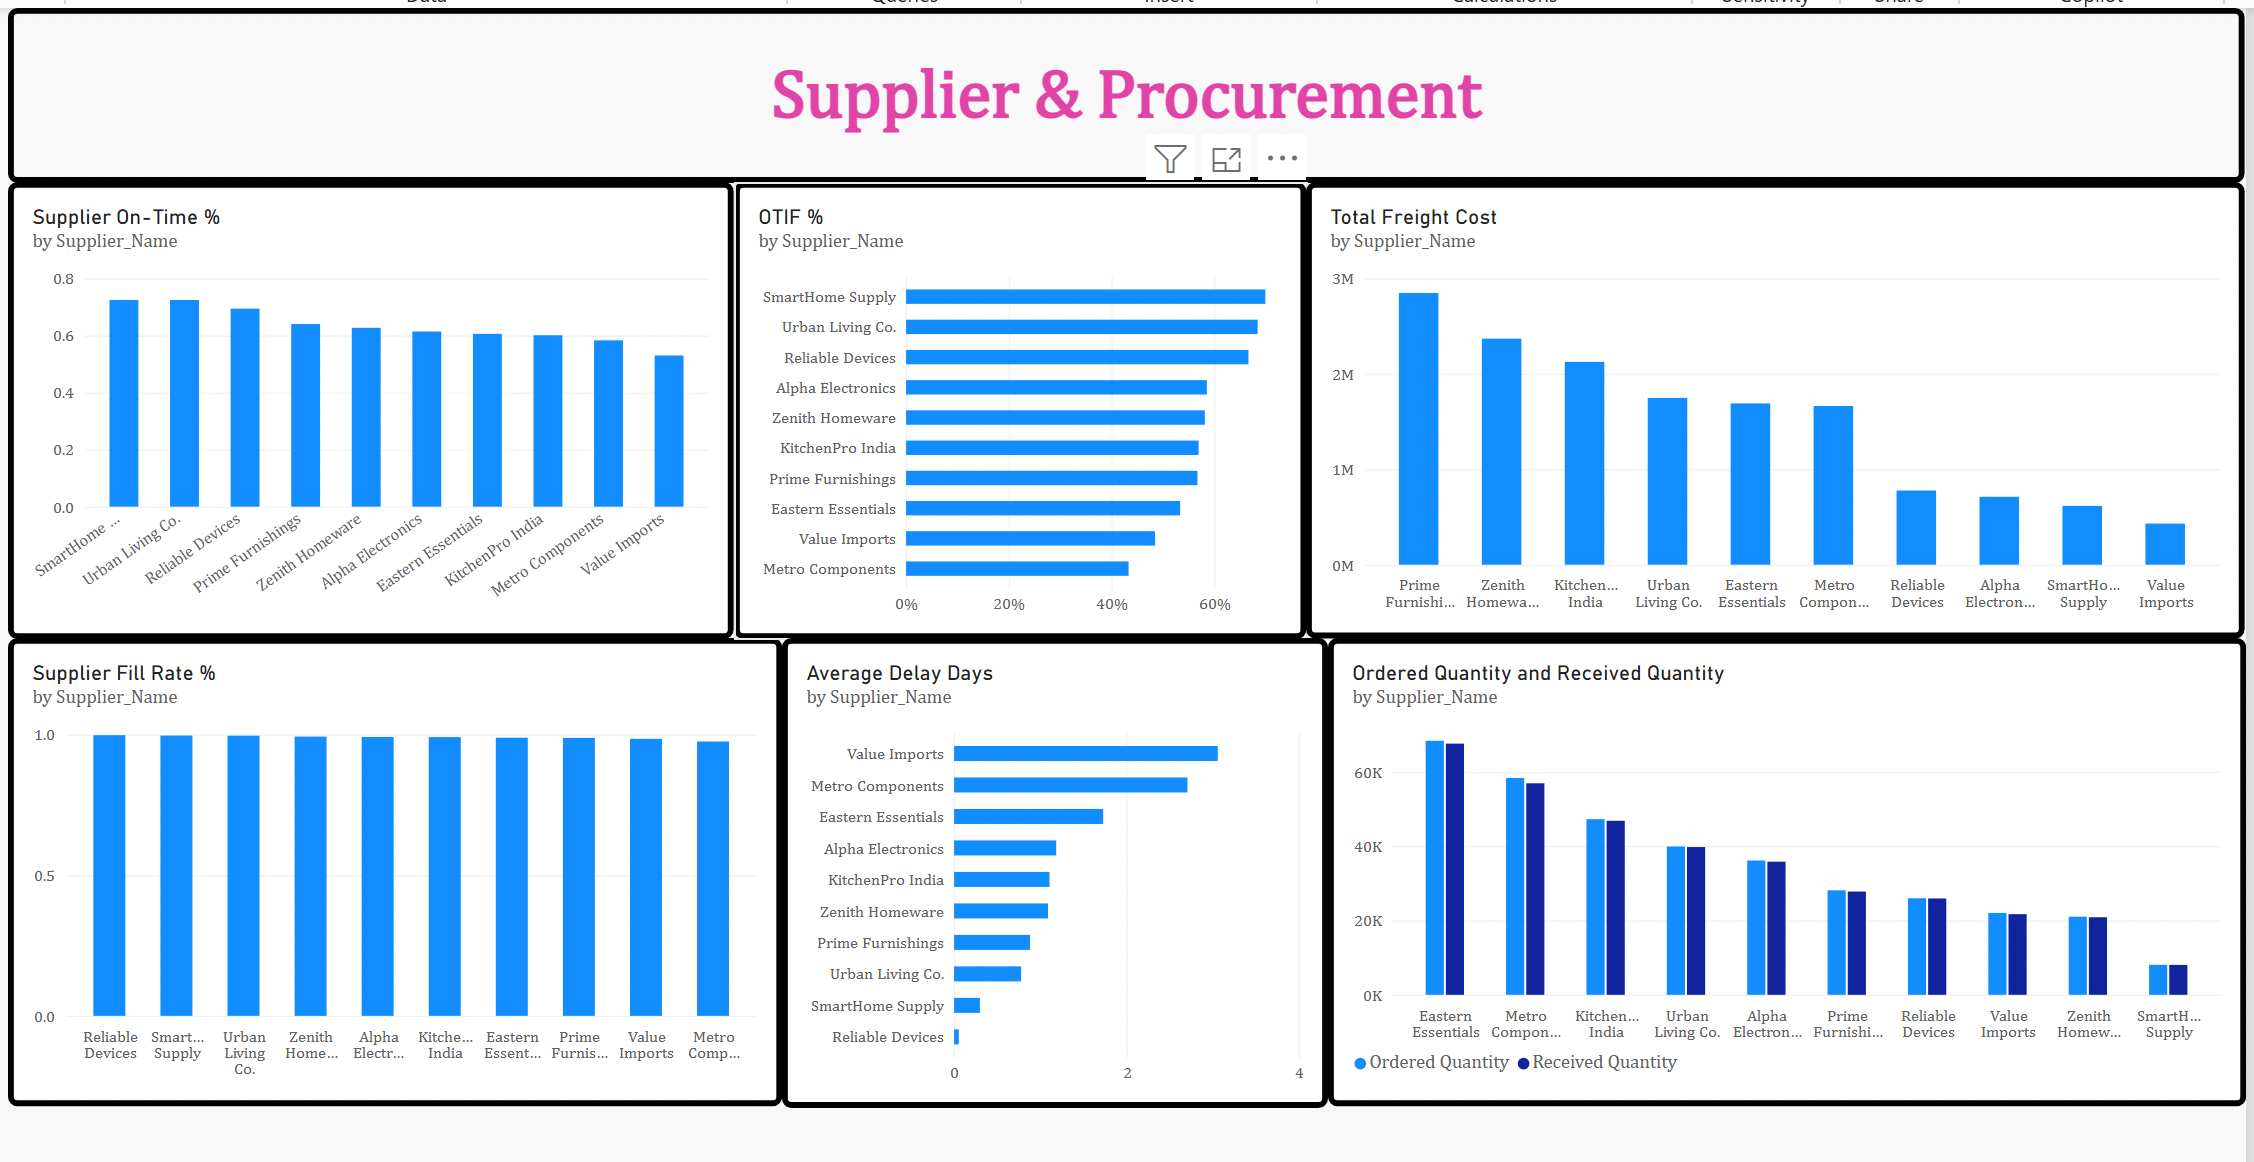

What the dashboard file says about the page in this screenshot:
{"tool":"powerbi","page":{"name":"Supplier & Procurement","canvas":[1920,1080],"ordinal":2},"visuals":[{"type":"clusteredColumnChart","fields":{"Category":["Supplier_Master.Supplier_Name"],"Y":["Supplier_Master.Supplier On-Time %"]},"box":[9.2,149.3,620.1,390.4],"z":0},{"type":"textbox","box":[9.2,0,1910.8,149.3],"z":1},{"type":"columnChart","fields":{"Category":["Supplier_Master.Supplier_Name"],"Y":["Supplier_Master.Supplier Fill Rate %"]},"box":[8.5,538.3,661.3,399.9],"z":2},{"type":"clusteredBarChart","fields":{"Category":["Supplier_Master.Supplier_Name"],"Y":["Purchase_Order.OTIF %"]},"box":[629.3,149.3,489.2,390.4],"z":3},{"type":"clusteredBarChart","fields":{"Category":["Supplier_Master.Supplier_Name"],"Y":["Product_Master.Average Delay Days"]},"box":[669.9,538.3,466.5,401.6],"z":4},{"type":"clusteredColumnChart","fields":{"Category":["Supplier_Master.Supplier_Name"],"Y":["Purchase_Order.Ordered Quantity","Purchase_Order.Received Quantity"]},"box":[1136.4,538.3,784.4,399.9],"z":5},{"type":"clusteredColumnChart","fields":{"Category":["Supplier_Master.Supplier_Name"],"Y":["Product_Master.Total Freight Cost"]},"box":[1118,149,802,390],"z":6}]}

Visuals, with their boxes on the page's 1920x1080 design canvas (x1, y1, x2, y2). These are canvas units, not pixel positions in the 2254x1162 screenshot, which may show the page scaled, cropped or inside an application window:
clusteredColumnChart - Supplier_Master.Supplier_Name x Supplier_Master.Supplier On-Time %: crop(9, 149, 629, 540)
textbox: crop(9, 0, 1920, 149)
columnChart - Supplier_Master.Supplier_Name x Supplier_Master.Supplier Fill Rate %: crop(8, 538, 670, 938)
clusteredBarChart - Supplier_Master.Supplier_Name x Purchase_Order.OTIF %: crop(629, 149, 1118, 540)
clusteredBarChart - Supplier_Master.Supplier_Name x Product_Master.Average Delay Days: crop(670, 538, 1136, 940)
clusteredColumnChart - Supplier_Master.Supplier_Name x Purchase_Order.Ordered Quantity: crop(1136, 538, 1921, 938)
clusteredColumnChart - Supplier_Master.Supplier_Name x Product_Master.Total Freight Cost: crop(1118, 149, 1920, 539)
